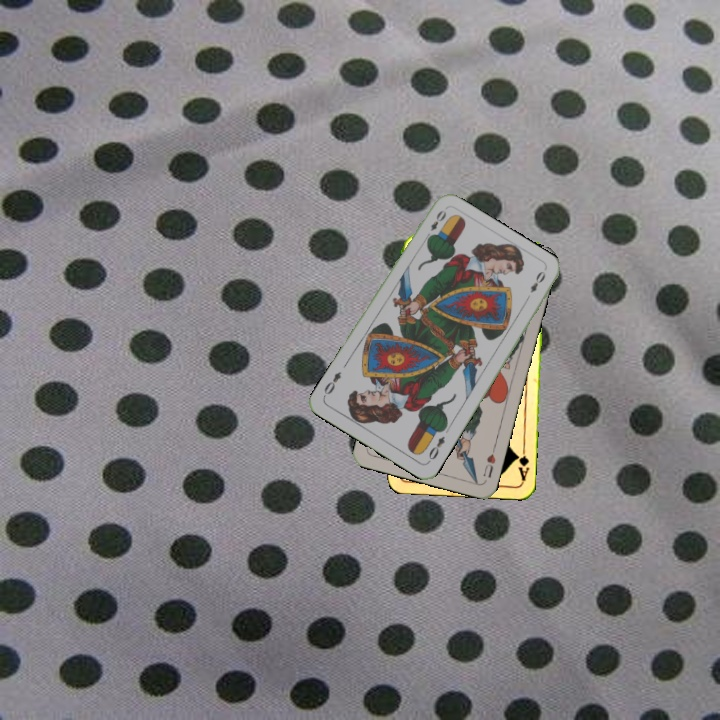EO: (421, 206, 449, 242), (424, 432, 447, 465)
GA: (512, 443, 532, 484)
HU: (479, 443, 498, 480)
